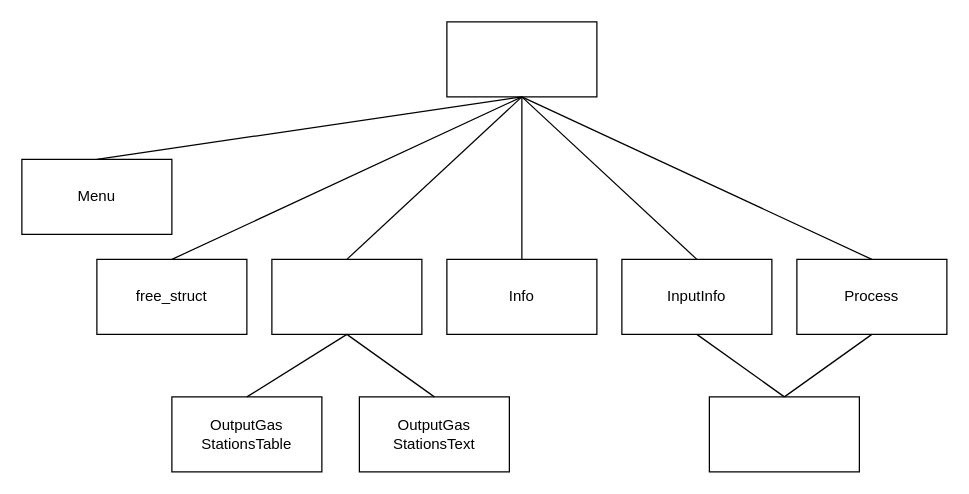
The diagram is 969 pixels wide and 494 high, and some of its shapes have lost their labels. The box of each missing label's shape, as (x1, y1, x2, y2) in pixels:
main: (446, 21, 597, 97)
OutputMenu: (271, 258, 422, 334)
PrepareStruct: (708, 396, 859, 472)
